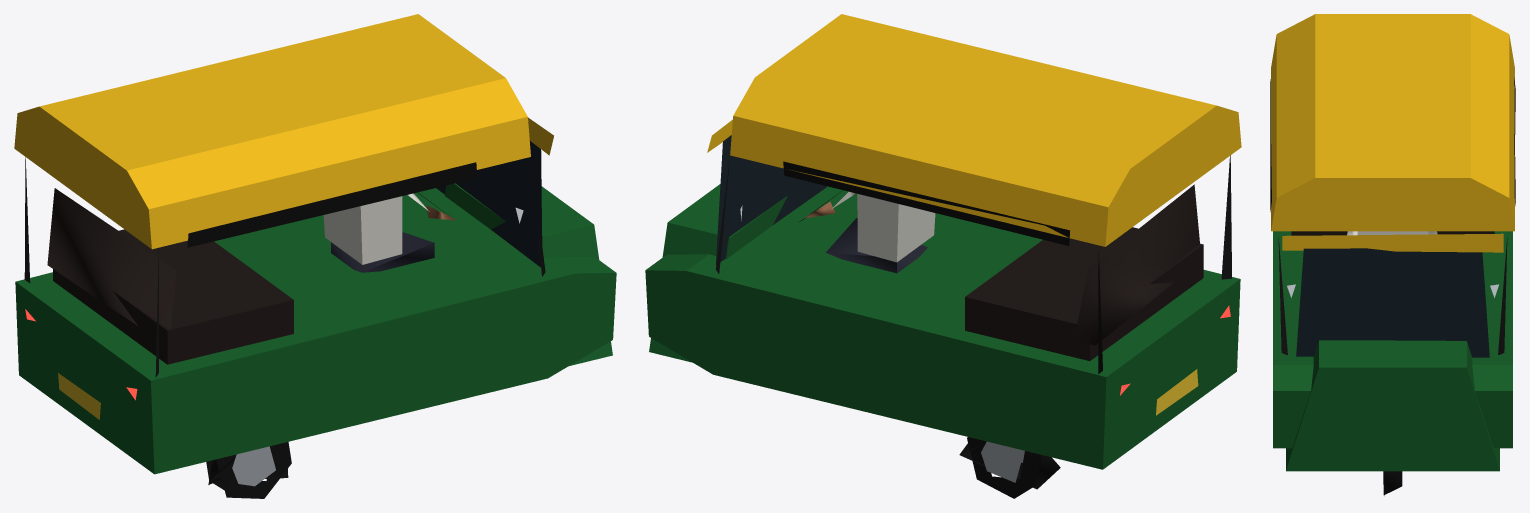
Rendered from auto_rickshaw_lod1.glb.
3 views of the same model, side by side, from view 1: azimuth 30°, elevation 25°; view 2: azimuth 150°, elevation 25°; view 3: azimuth 270°, elevation 25° (orthographic). The views are drawn at different scales.
Parts seen in each view (by area): view 1: auto_rickshaw_body, wheel_rr; view 2: auto_rickshaw_body, wheel_rl; view 3: auto_rickshaw_body, wheel_f.002.
Part boxes in pixels (x1=…): auto_rickshaw_body: x1=14, y1=14, x2=616, y2=474; wheel_rr: x1=206, y1=442, x2=291, y2=498; auto_rickshaw_body: x1=645, y1=14, x2=1241, y2=469; wheel_rl: x1=959, y1=437, x2=1060, y2=498; auto_rickshaw_body: x1=1270, y1=14, x2=1515, y2=471; wheel_f.002: x1=1383, y1=471, x2=1402, y2=495.
Bounding box in the file's own units: 2.62 × 1.8 × 1.33.
2 materials, 1 textured.
